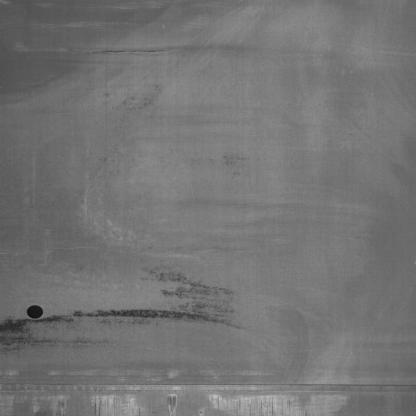welding_line: (0, 371, 414, 403)
